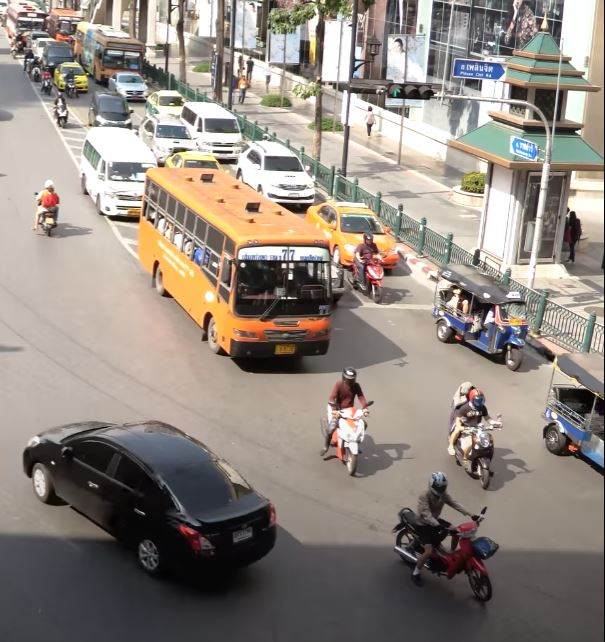Bus: (136, 166, 332, 364), (77, 124, 158, 221), (73, 21, 144, 82), (178, 101, 242, 159), (4, 2, 46, 39), (49, 8, 85, 48)
Car: (305, 201, 399, 270), (237, 139, 318, 208), (141, 117, 196, 156), (89, 89, 133, 127), (109, 71, 153, 101), (148, 88, 187, 118), (166, 152, 220, 171), (55, 61, 89, 90)
Motorcycle: (393, 471, 506, 602), (318, 364, 375, 480), (450, 381, 505, 488), (347, 230, 387, 303), (31, 176, 63, 237), (52, 89, 71, 129), (63, 67, 77, 98), (40, 65, 54, 94), (28, 56, 42, 82)
TukTuk: (432, 261, 527, 373), (539, 350, 605, 476)
